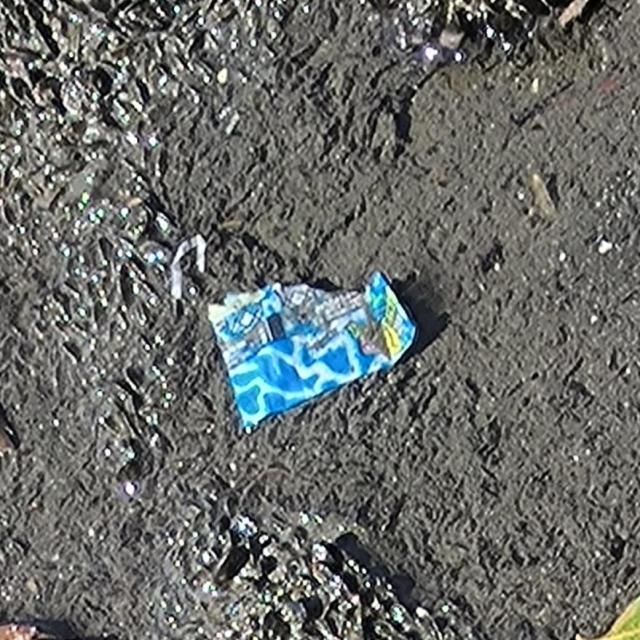plastic_waste: (204, 271, 419, 432)
